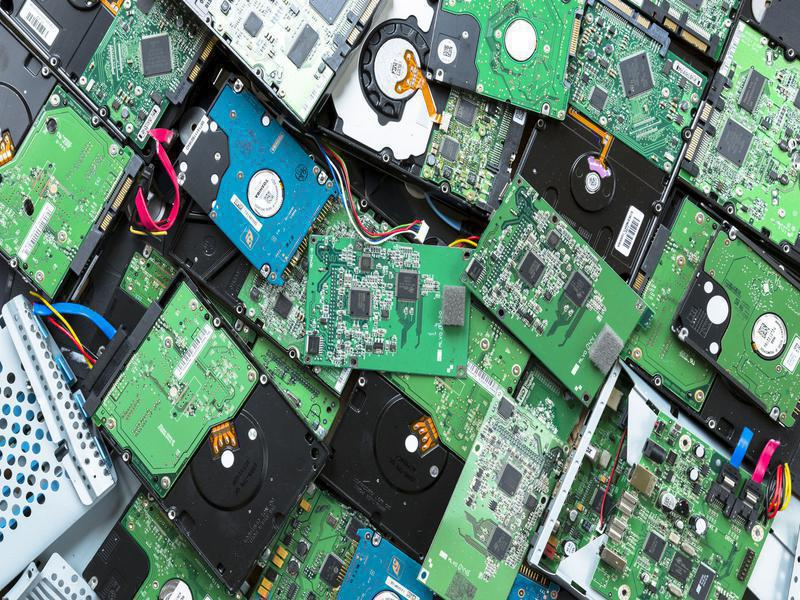circuit_board: (87, 268, 334, 597), (525, 369, 800, 600), (459, 173, 655, 412), (629, 199, 800, 414), (167, 84, 345, 282), (1, 86, 143, 303), (296, 225, 479, 385), (573, 2, 745, 168), (63, 1, 211, 146), (419, 1, 584, 126)
